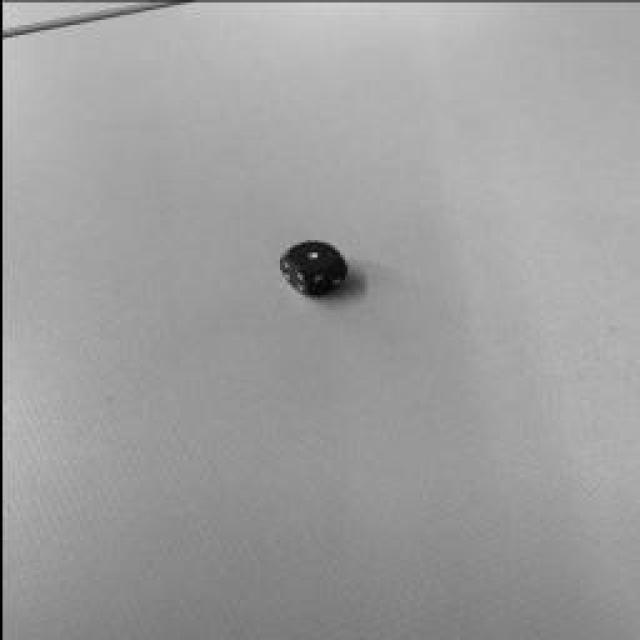dice_1: (284, 240, 336, 270)
